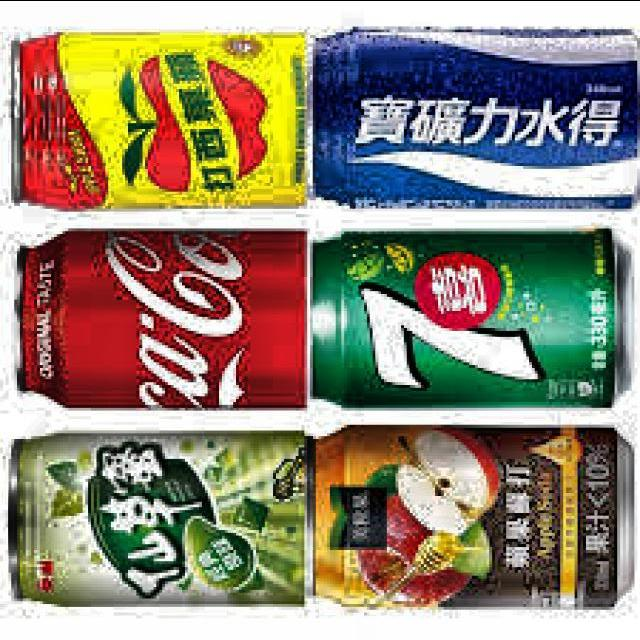Aluminum Can: (296, 421, 640, 612), (300, 20, 640, 212), (300, 224, 640, 414), (0, 220, 314, 416), (2, 23, 320, 216), (0, 426, 314, 617)
